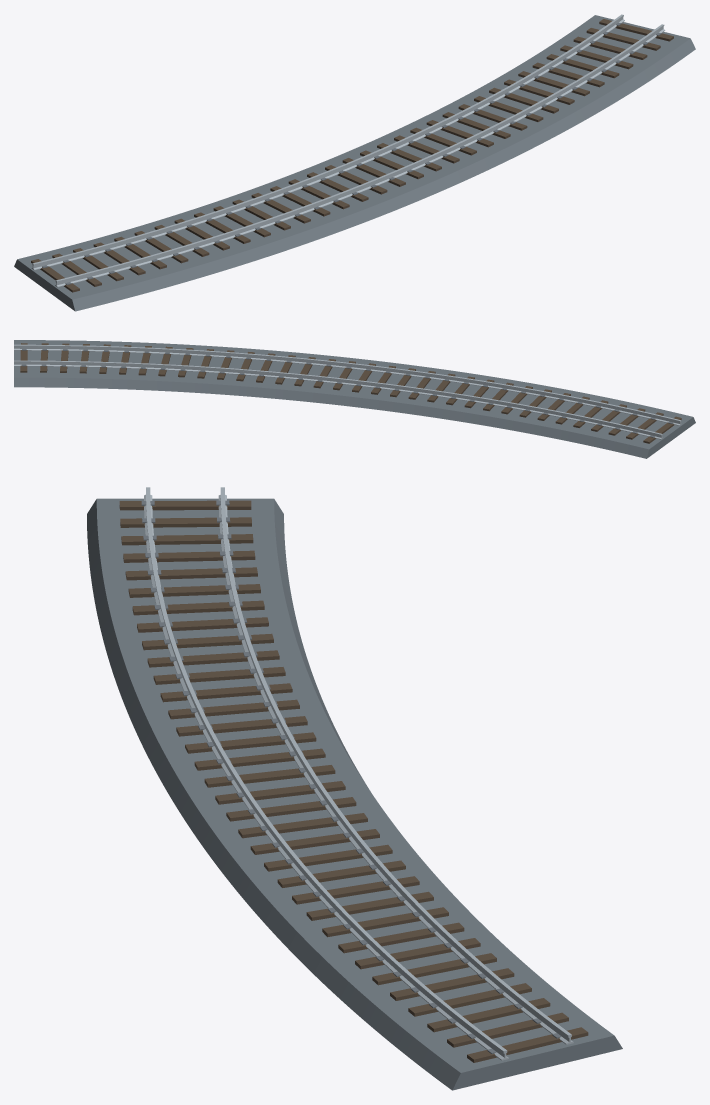
File: curve_left.glb
3 renders of one model, top to bottom at view 1: azimuth 30°, elevation 25°; view 2: azimuth 150°, elevation 25°; view 3: azimuth 270°, elevation 25°, orthographic. The views are drawn at different scales.
Visible parts, largest first — view 1: Bed.002, Rail_0_-1.002, Rail_0_1.002; view 2: Bed.002, Rail_0_-1.002, Rail_0_1.002; view 3: Bed.002, Rail_0_-1.002, Rail_0_1.002, Sleeper_0_5.002, Sleeper_0_2.002, Sleeper_0_3.002, Sleeper_0_6.002, Sleeper_0_1.002, Sleeper_0_4.002, Sleeper_0_9.002, Sleeper_0_0.002, Sleeper_0_7.002 (+25 smaller).
Part boxes in pixels (x1=…): Bed.002: x1=14, y1=15, x2=695, y2=311; Rail_0_-1.002: x1=55, y1=24, x2=665, y2=287; Rail_0_1.002: x1=31, y1=14, x2=624, y2=270; Bed.002: x1=14, y1=340, x2=695, y2=458; Rail_0_-1.002: x1=14, y1=344, x2=681, y2=425; Rail_0_1.002: x1=14, y1=360, x2=662, y2=439; Bed.002: x1=87, y1=498, x2=622, y2=1090; Rail_0_-1.002: x1=144, y1=487, x2=508, y2=1060; Rail_0_1.002: x1=218, y1=487, x2=573, y2=1044; Sleeper_0_5.002: x1=128, y1=584, x2=260, y2=597; Sleeper_0_2.002: x1=121, y1=534, x2=253, y2=545; Sleeper_0_3.002: x1=123, y1=550, x2=255, y2=562; Sleeper_0_6.002: x1=132, y1=600, x2=264, y2=615; Sleeper_0_1.002: x1=120, y1=517, x2=251, y2=527; Sleeper_0_4.002: x1=125, y1=567, x2=257, y2=580; Sleeper_0_9.002: x1=147, y1=650, x2=279, y2=667; Sleeper_0_0.002: x1=119, y1=500, x2=251, y2=510; Sleeper_0_7.002: x1=137, y1=617, x2=268, y2=632.
Bounding box in the file's own units: 20.75 × 0.45 × 8.16.
